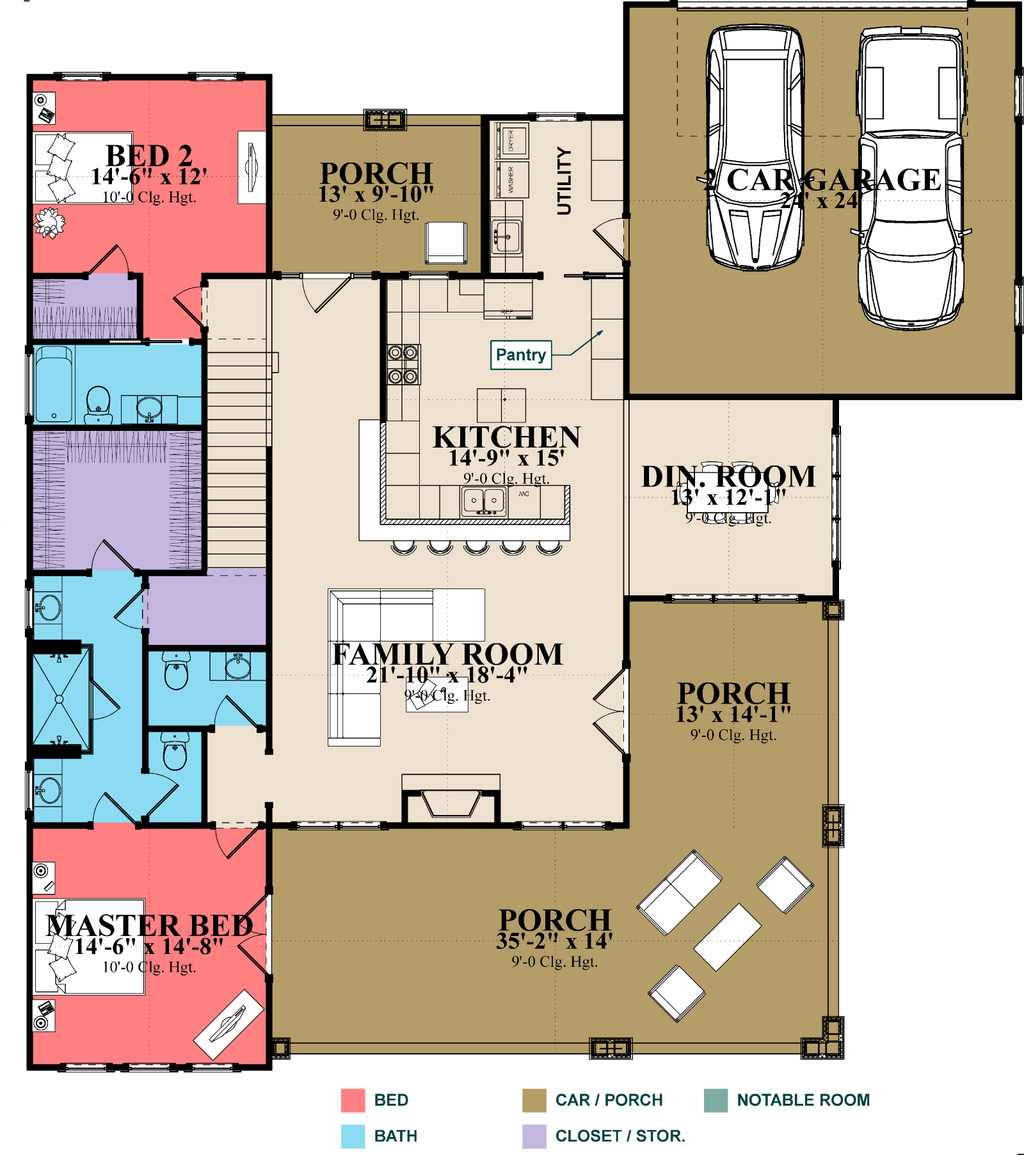bed: (29, 132, 127, 205)
door: (293, 275, 353, 319), (594, 212, 632, 269), (89, 533, 136, 579), (209, 692, 260, 733), (90, 242, 136, 286), (142, 771, 182, 815), (214, 820, 259, 859), (109, 587, 147, 633), (83, 678, 125, 719), (87, 790, 134, 826)
kitchen_bar: (361, 479, 575, 561)
large_sink: (153, 644, 195, 694), (76, 379, 114, 426), (159, 723, 190, 773)
large_sofa: (634, 851, 716, 933), (325, 589, 437, 645)
small_sink: (750, 859, 816, 915), (642, 965, 703, 1022), (200, 647, 268, 686), (118, 392, 182, 428), (29, 759, 65, 820), (34, 577, 67, 642)
small_sofa: (422, 217, 472, 266)
stairs: (198, 338, 284, 578)
tub: (34, 342, 77, 434)
